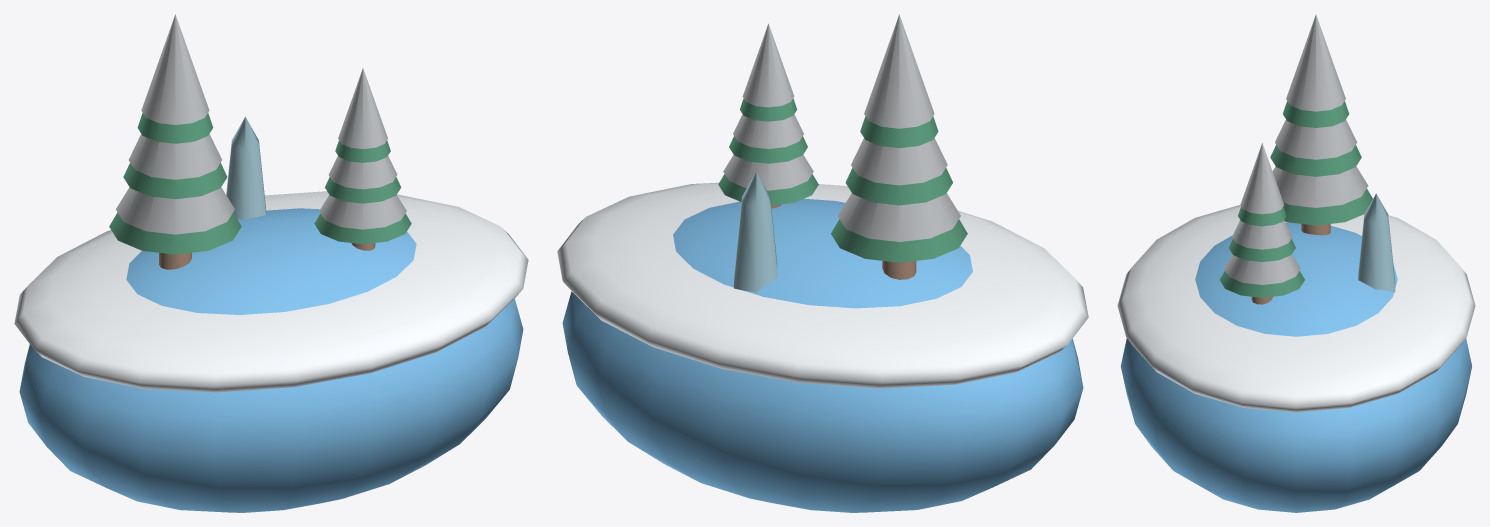
Rendered from st_snow_island.glb.
3 renders of one model, left to right at view 1: azimuth 30°, elevation 25°; view 2: azimuth 150°, elevation 25°; view 3: azimuth 270°, elevation 25°, orthographic. The views are drawn at different scales.
Visible parts, largest first — view 1: Floating_Snow_Island; view 2: Floating_Snow_Island; view 3: Floating_Snow_Island.
Part boxes in pixels (left/top/right/bottom): Floating_Snow_Island: left=14, top=14, right=528, bottom=512; Floating_Snow_Island: left=557, top=14, right=1088, bottom=512; Floating_Snow_Island: left=1117, top=14, right=1475, bottom=512.
Size of the model in its own units: 2.96 by 2.87 by 2.2.
